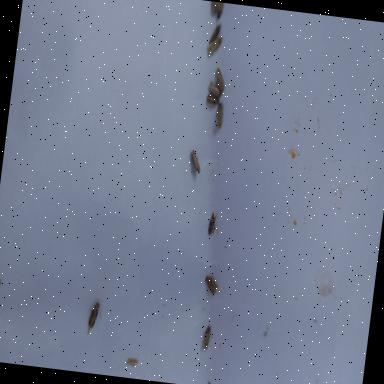pbw: (187, 145, 204, 174), (205, 34, 222, 60), (88, 300, 100, 330), (213, 66, 226, 92), (204, 274, 220, 295), (214, 102, 225, 130), (207, 210, 218, 236), (202, 324, 213, 350), (208, 22, 220, 44), (208, 80, 222, 98), (214, 3, 224, 19), (205, 94, 219, 104), (128, 355, 138, 367), (209, 2, 216, 16)
